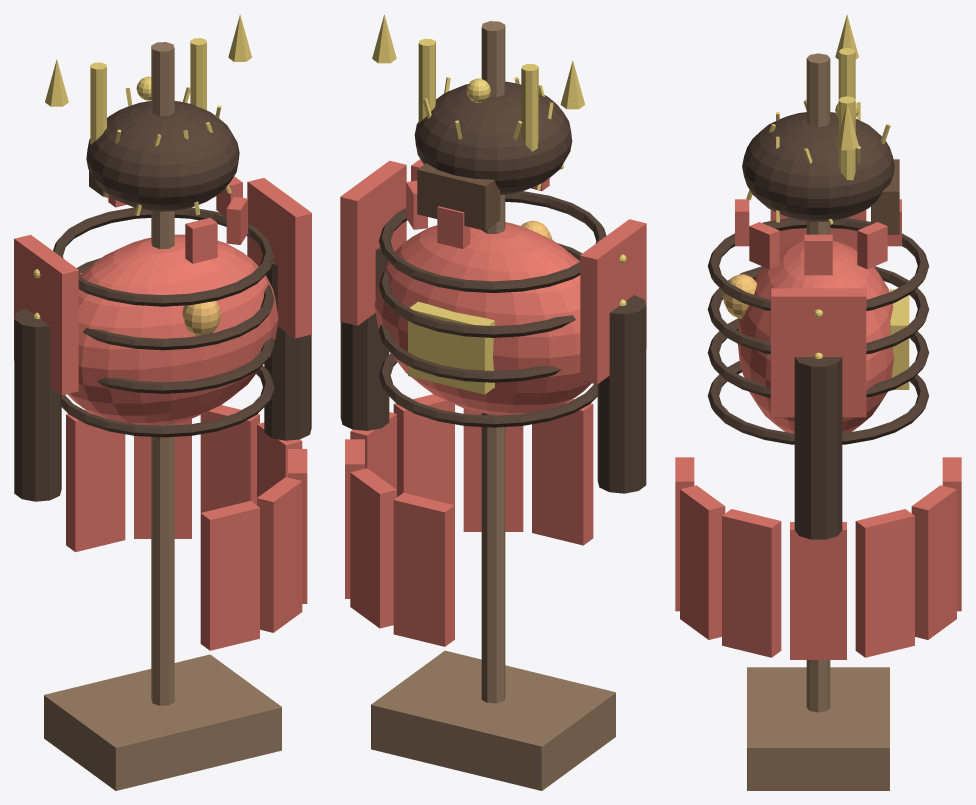
The model's file is samurai_armor_stand.glb.
3 renders of one model, left to right at view 1: azimuth 30°, elevation 25°; view 2: azimuth 150°, elevation 25°; view 3: azimuth 270°, elevation 25°, orthographic. The views are drawn at different scales.
Visible parts, largest first — view 1: samurai_armor_stand; view 2: samurai_armor_stand; view 3: samurai_armor_stand.
Part boxes in pixels (x1,y1,x2,y2): samurai_armor_stand: (14,14,311,790); samurai_armor_stand: (340,14,646,790); samurai_armor_stand: (675,14,961,790).
Bounding box in the file's own units: 0.6951 × 1.6 × 0.6.
